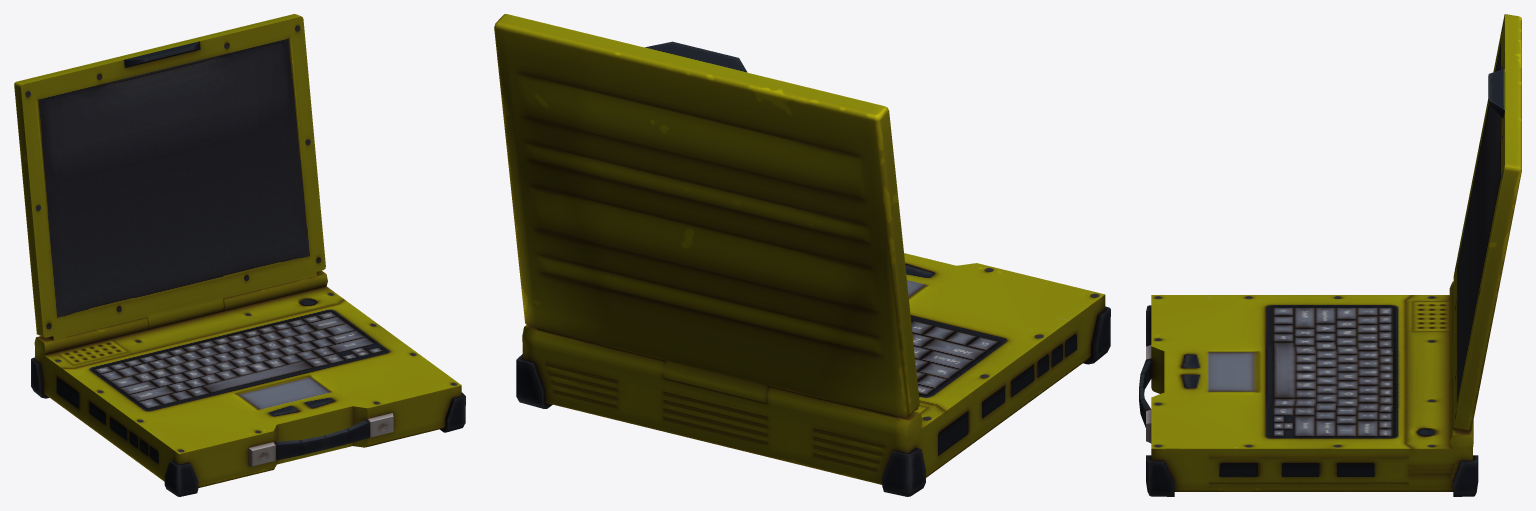
The model's file is ArmyLaptop01.FBX.
3 views of the same model, side by side, from view 1: azimuth 30°, elevation 25°; view 2: azimuth 150°, elevation 25°; view 3: azimuth 270°, elevation 25° (orthographic). The views are drawn at different scales.
Visible parts, largest first — view 1: ArmyLaptop01; view 2: ArmyLaptop01; view 3: ArmyLaptop01.
Part boxes in pixels (box(x1,y1,x2,y2)): ArmyLaptop01: box(14, 14, 465, 496); ArmyLaptop01: box(494, 14, 1110, 496); ArmyLaptop01: box(1139, 14, 1521, 496).
Size of what is drawn, in the model's own units: 0.5046 by 0.4968 by 0.516.
